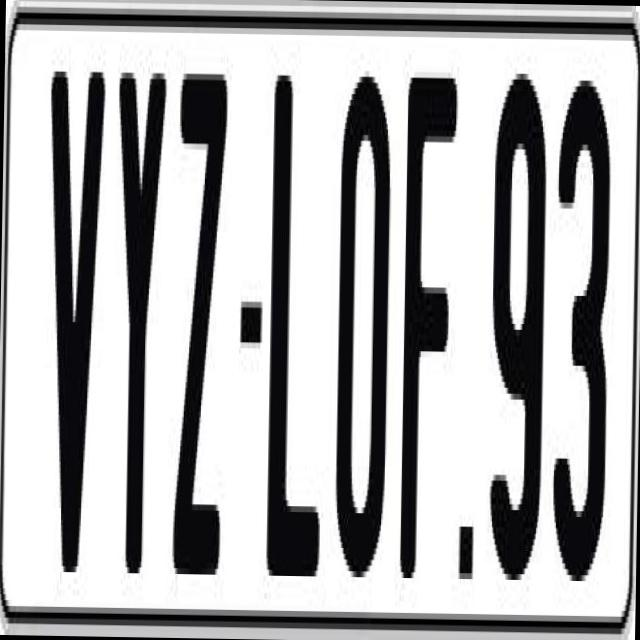0: (332, 65, 398, 590)
3: (550, 74, 616, 576)
9: (484, 61, 554, 586)
F: (400, 60, 460, 567)
L: (262, 69, 332, 576)
V: (41, 70, 110, 590)
Y: (109, 66, 169, 603)
Z: (168, 73, 225, 575)
